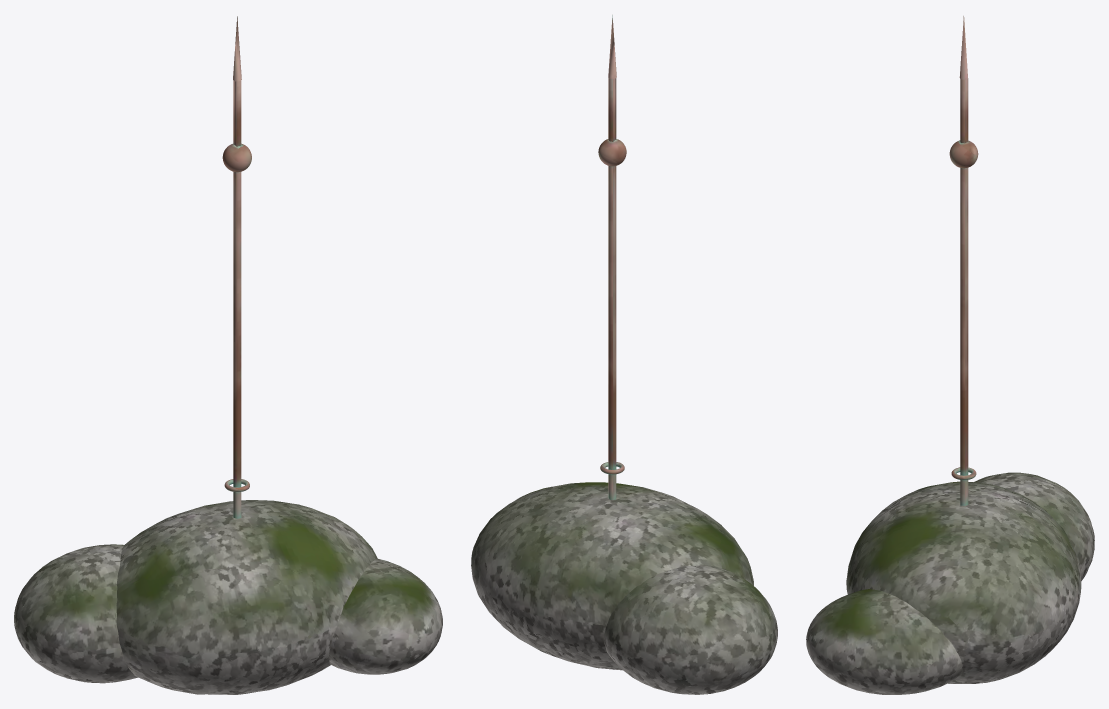
File: rod.glb
3 renders of one model, left to right at view 1: azimuth 30°, elevation 25°; view 2: azimuth 150°, elevation 25°; view 3: azimuth 270°, elevation 25°, orthographic. The views are drawn at different scales.
Parts seen in each view (by area): view 1: rod; view 2: rod; view 3: rod.
Boxes of the visible parts, x1=… form: rod: x1=14, y1=16, x2=442, y2=694; rod: x1=471, y1=15, x2=777, y2=694; rod: x1=806, y1=16, x2=1094, y2=694.
Size of the model in its own units: 2.3 by 4.26 by 1.72.
2 materials, 2 textured.
